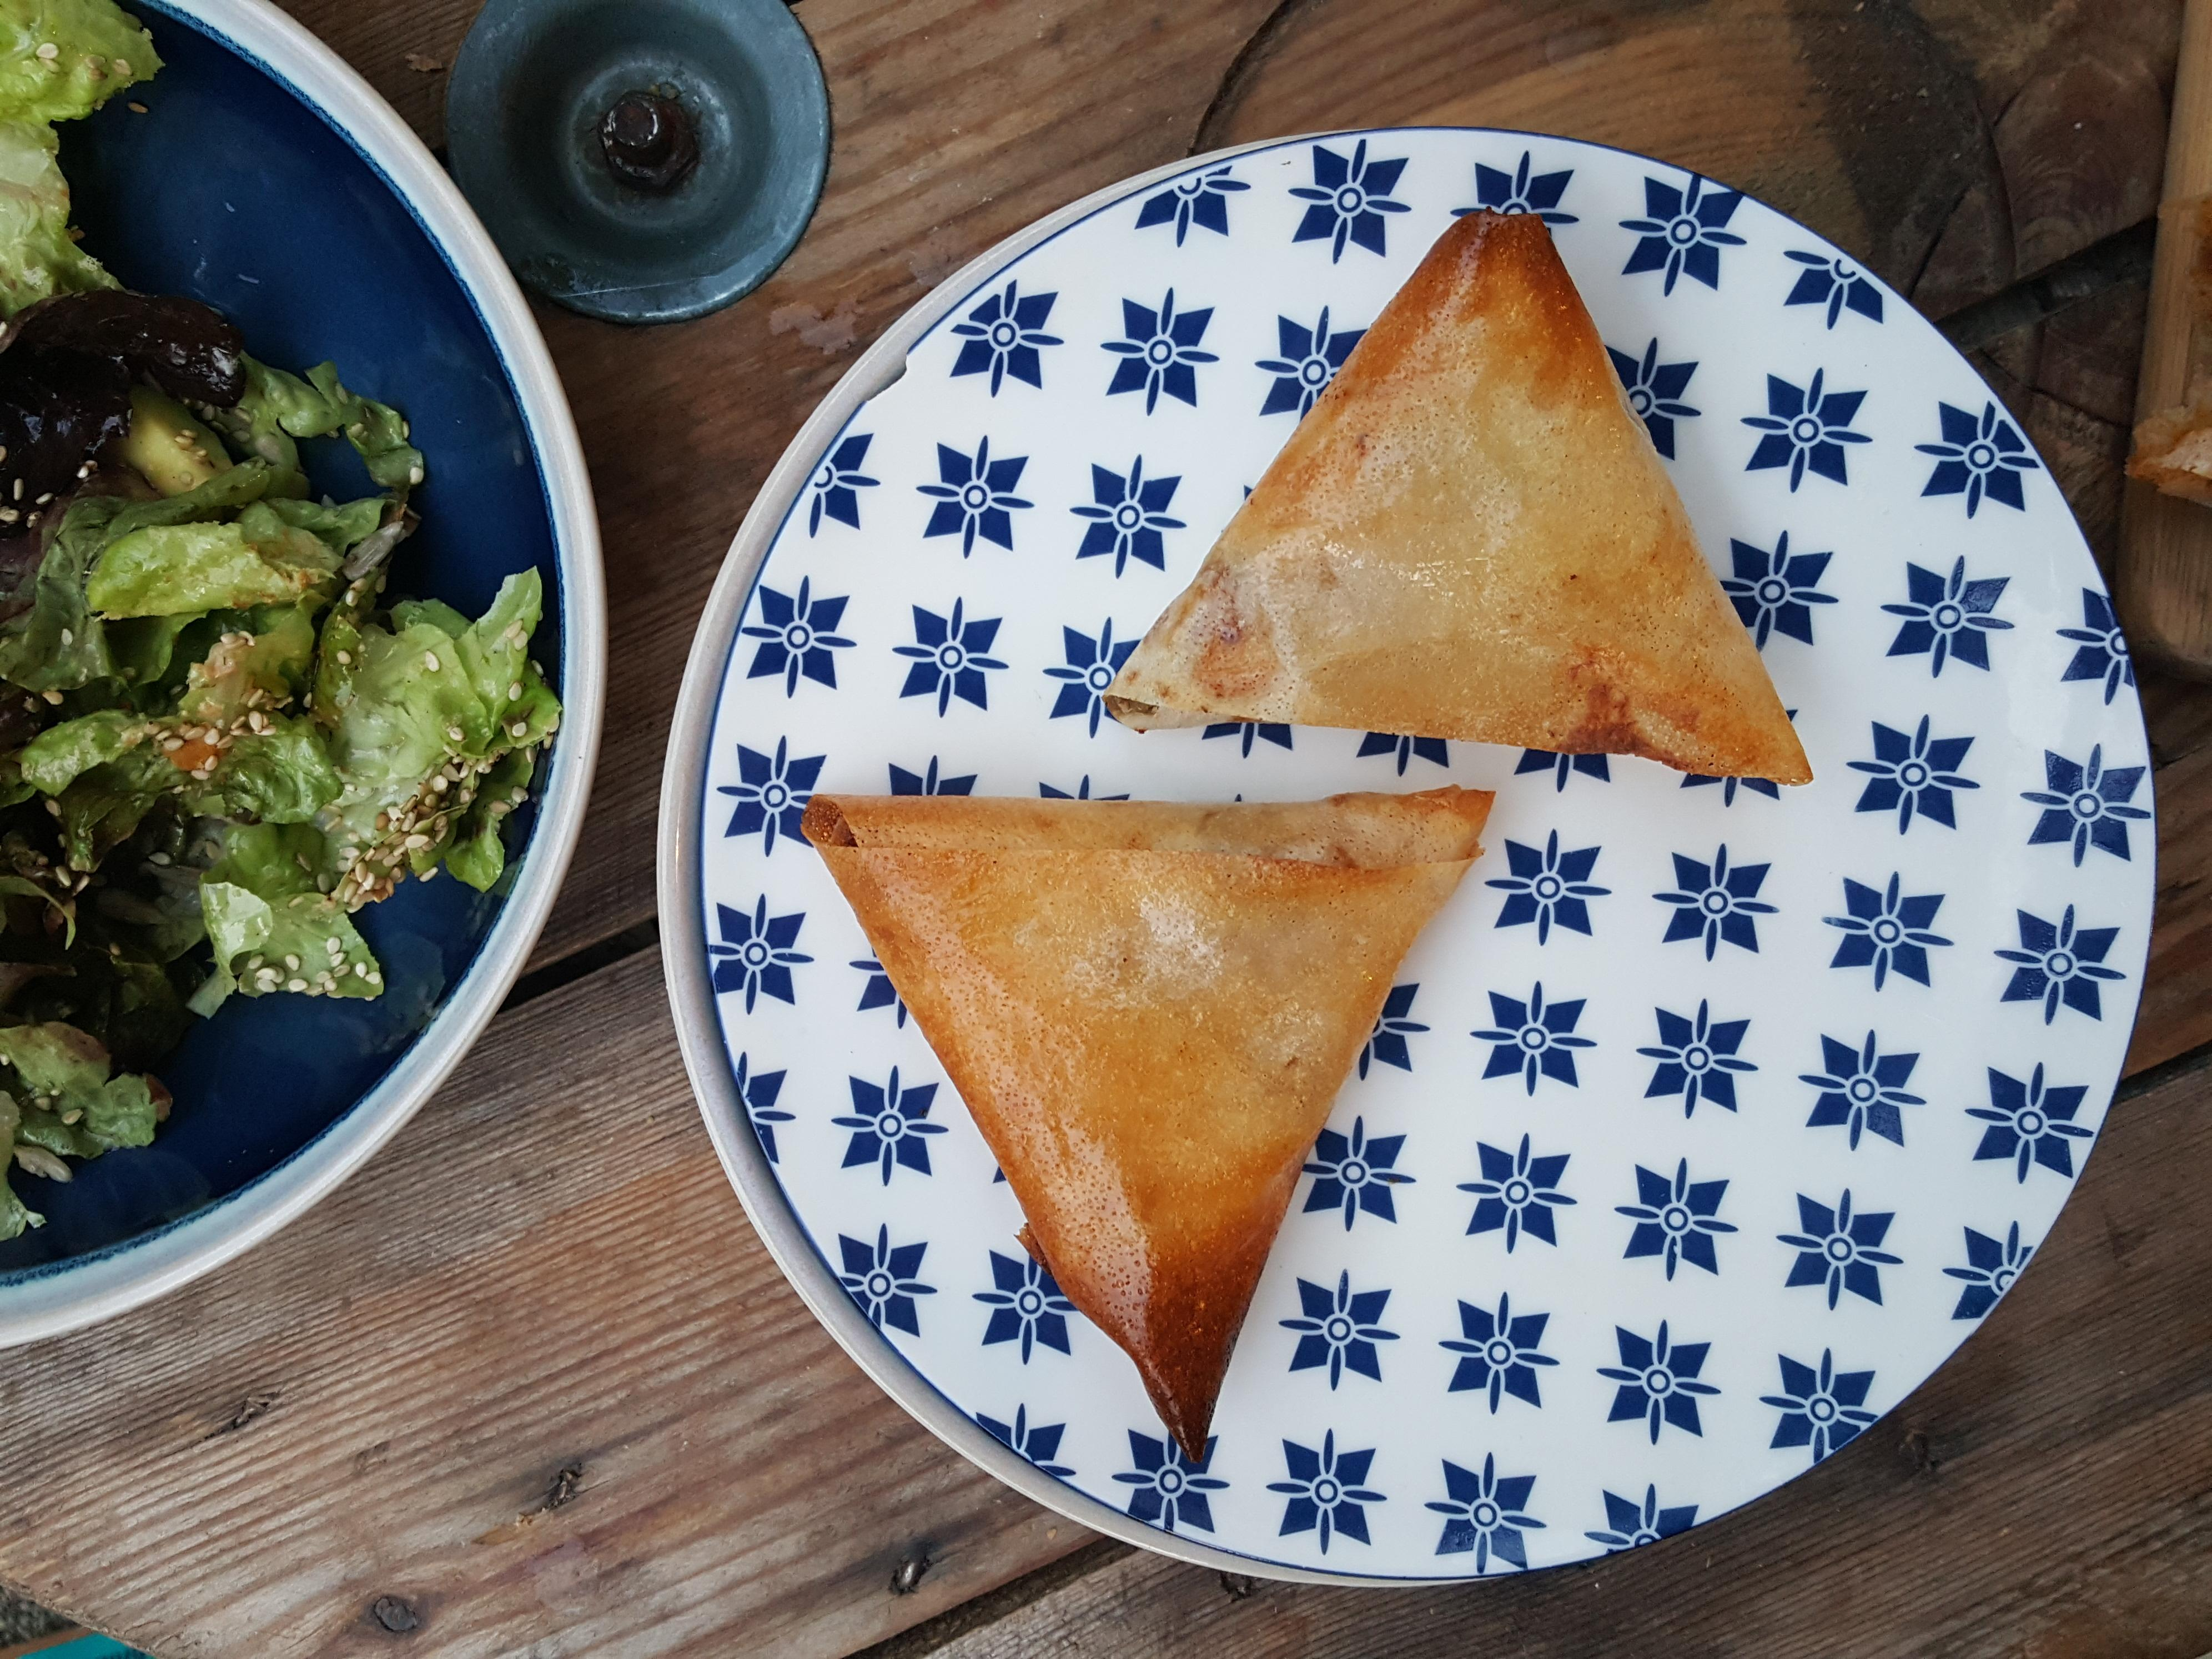samosa: (265, 606, 1158, 1117), (1163, 829, 1930, 1358), (1393, 1112, 1406, 1117)
